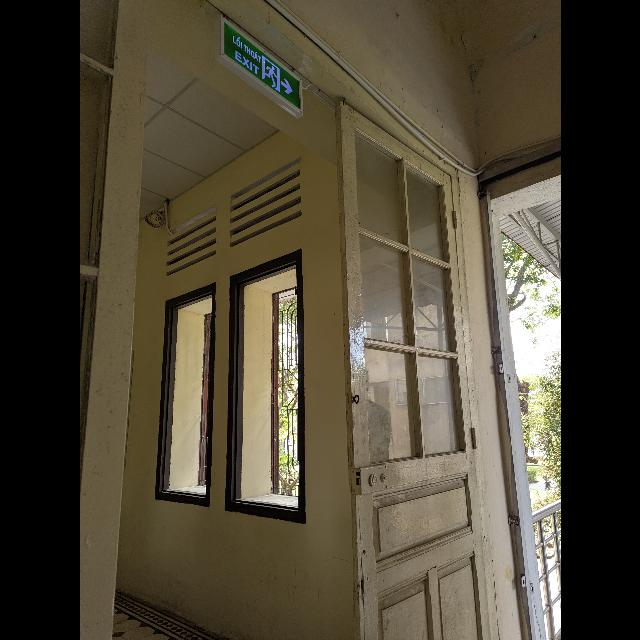exit: (217, 18, 303, 118)
